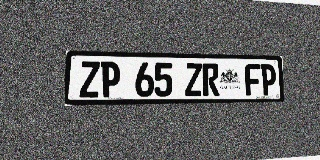5: (154, 62, 173, 97)
6: (135, 62, 154, 97)
F: (245, 64, 261, 96)
P: (100, 62, 120, 97), (261, 64, 276, 95)
R: (202, 63, 219, 96)
Z: (79, 61, 100, 98), (185, 63, 202, 96)
